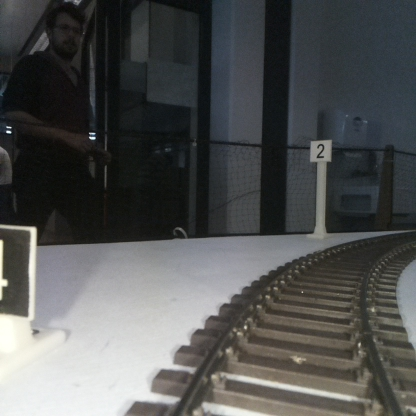white-info-2: (310, 140, 331, 237)
